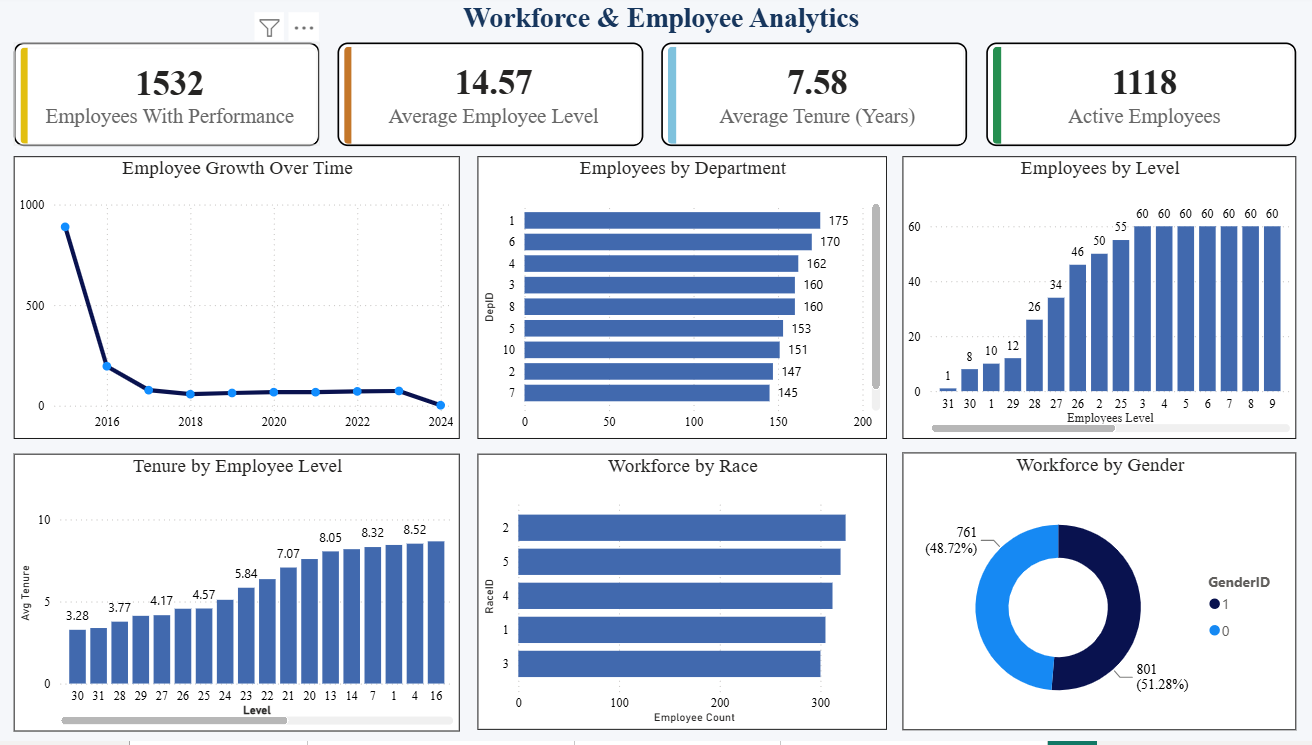

The page's visual inventory and layout, read from the dashboard file:
{"tool":"powerbi","page":{"name":"Page 2","canvas":[1280,720],"ordinal":1},"visuals":[{"type":"cardVisual","fields":{"Data":["Table.Average Tenure (Years)"]},"box":[643.6,45.2,295,100],"z":0},{"type":"cardVisual","fields":{"Data":["Table.Average Employee Level"]},"box":[331,45.2,295,100],"z":1000},{"type":"cardVisual","fields":{"Data":["Table.Employees With Performance"]},"box":[18.3,45.2,295,100],"z":2000},{"type":"clusteredColumnChart","title":"Employees by Level","fields":{"Category":["tbl_Employee.Level"],"Y":["Table.Unique emp"]},"box":[875.5,155.3,380.3,272.7],"z":3000},{"type":"donutChart","title":"Workforce by Gender","fields":{"Category":["tbl_Employee.GenderID"],"Y":["Table.Unique emp"]},"box":[875.5,441.4,380.3,267.8],"z":4000},{"type":"clusteredBarChart","title":"Workforce by Race","fields":{"Category":["tbl_Employee.RaceID"],"Y":["Table.Unique emp"]},"box":[465.9,442.7,395,266.6],"z":5000},{"type":"lineChart","title":"Employee Growth Over Time","fields":{"Category":["tbl_Employee.EngDt.Variation.Date Hierarchy.Year"],"Y":["Table.Unique emp"]},"box":[18.3,155.3,430.4,272.7],"z":6000},{"type":"clusteredBarChart","title":"Employees by Department","fields":{"Category":["tbl_Employee.DepID"],"Y":["Table.Unique emp"]},"box":[465.9,155.3,395,272.7],"z":7000},{"type":"clusteredColumnChart","title":"Tenure by Employee Level","fields":{"Category":["tbl_Employee.Level"],"Y":["Table.Avg Tenure"]},"box":[18.3,442.7,430.4,267.8],"z":8000},{"type":"cardVisual","fields":{"Data":["Table.Active Employees"]},"box":[956.3,45.2,299.6,100.3],"z":9000},{"type":"shape","box":[380.3,0,525.8,45.2],"z":10000}]}

Visuals, with their boxes in screenshot pixels (x1, y1, x2, y2), scaled from the page's 1280x720 canvas onto the 1312x745 screenshot:
cardVisual - Table.Average Tenure (Years): box(660, 47, 962, 150)
cardVisual - Table.Average Employee Level: box(339, 47, 642, 150)
cardVisual - Table.Employees With Performance: box(19, 47, 321, 150)
"Employees by Level" clusteredColumnChart: box(897, 161, 1287, 443)
"Workforce by Gender" donutChart: box(897, 457, 1287, 734)
"Workforce by Race" clusteredBarChart: box(478, 458, 882, 734)
"Employee Growth Over Time" lineChart: box(19, 161, 460, 443)
"Employees by Department" clusteredBarChart: box(478, 161, 882, 443)
"Tenure by Employee Level" clusteredColumnChart: box(19, 458, 460, 735)
cardVisual - Table.Active Employees: box(980, 47, 1287, 151)
shape: box(390, 0, 929, 47)
